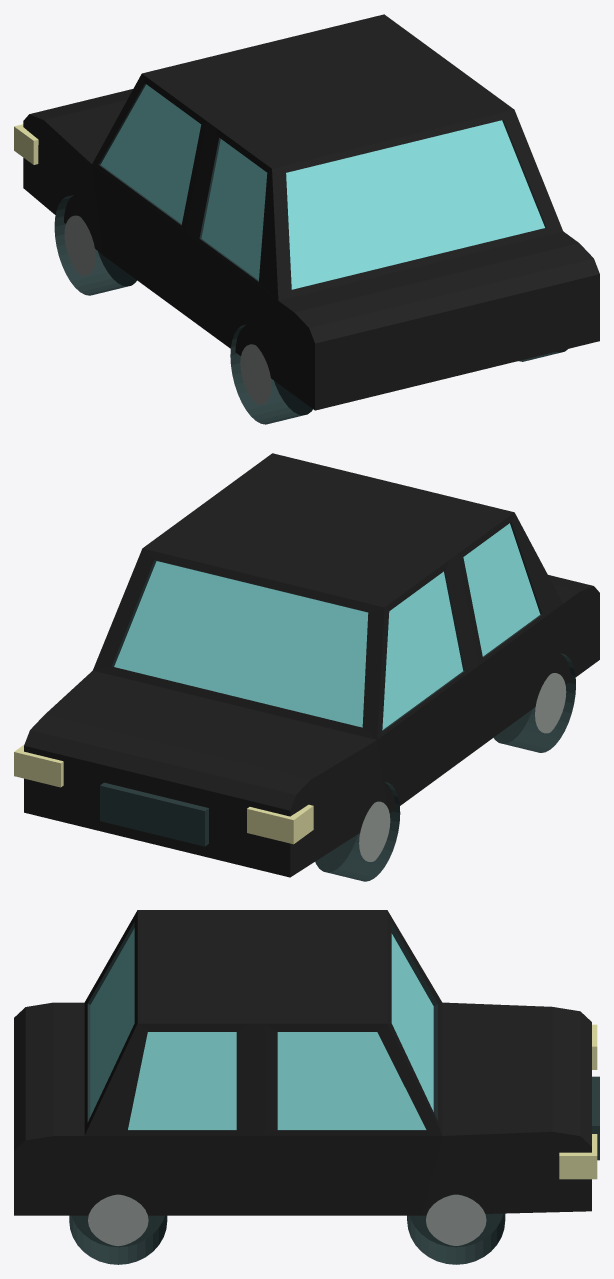
File: black car.fbx
3 renders of one model, top to bottom at view 1: azimuth 30°, elevation 25°; view 2: azimuth 150°, elevation 25°; view 3: azimuth 270°, elevation 25°, orthographic. The views are drawn at different scales.
Parts seen in each view (by area): view 1: Cube; view 2: Cube; view 3: Cube.
Part boxes in pixels (x1,y1,x2,y2): Cube: (14,14,599,424); Cube: (14,453,599,881); Cube: (14,910,599,1264).
Size of the model in its own units: 207 by 160 by 371.
